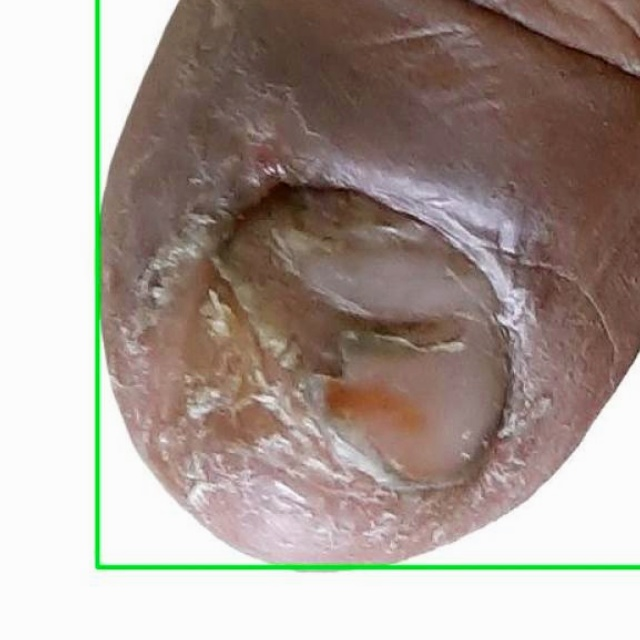Contact Dermatitis: (0, 0, 639, 639), (97, 0, 639, 568)
